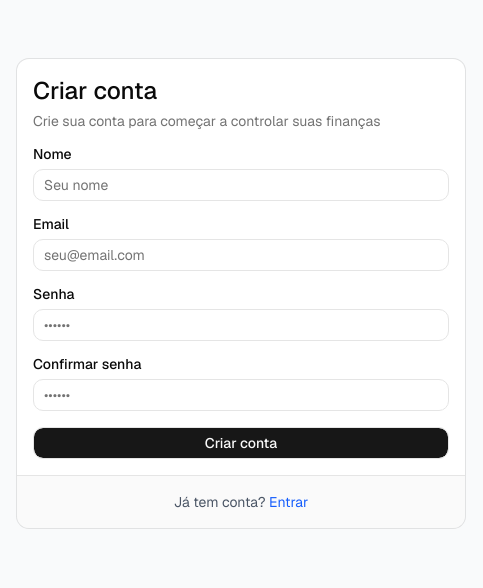
RegisterPage › exibe erro quando nome é muito curto
In the field labelled "Nome": (241, 184) x1=33 y1=168 x2=449 y2=200, type "A"
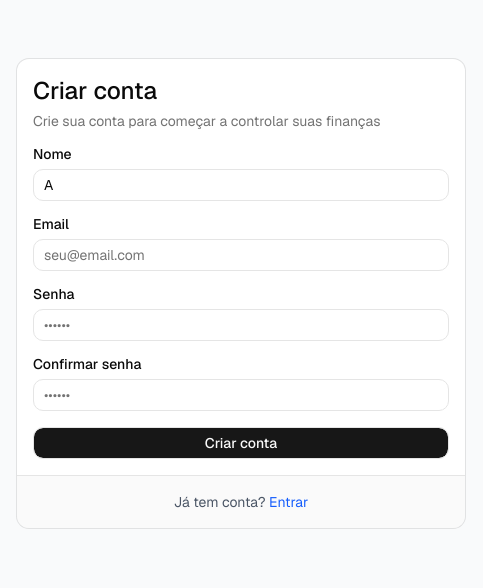
Click the button "Criar conta": (241, 442) x1=33 y1=426 x2=449 y2=458
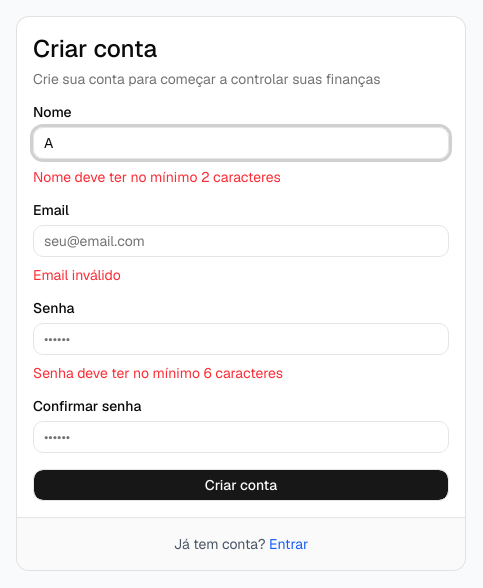
Expected: the text "Nome deve ter no mínimo 2 caracteres" is shown, x1=33 y1=168 x2=281 y2=186
